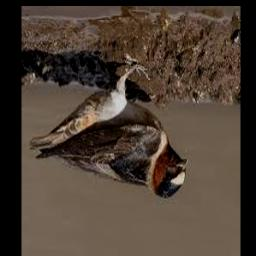Swallow: (31, 66, 188, 198)
